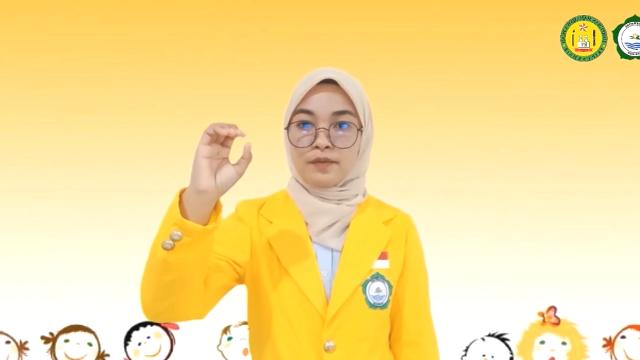O: (186, 118, 260, 197)
